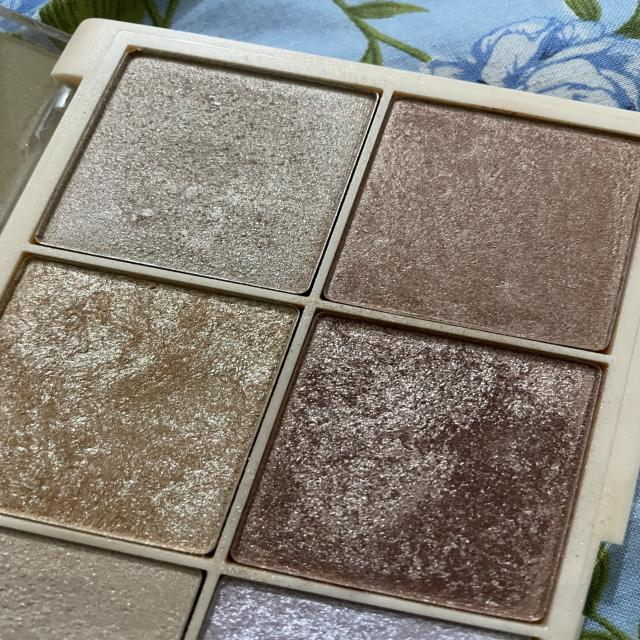highlighter: (211, 299, 623, 627), (34, 32, 386, 314), (0, 247, 308, 568), (311, 84, 640, 369), (183, 554, 559, 640), (0, 515, 217, 640)
